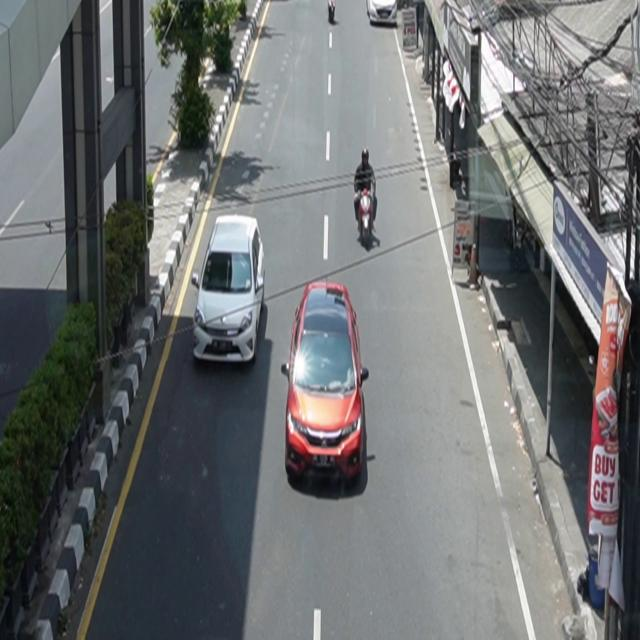car: (282, 281, 370, 483), (192, 214, 266, 365), (367, 1, 398, 26)
